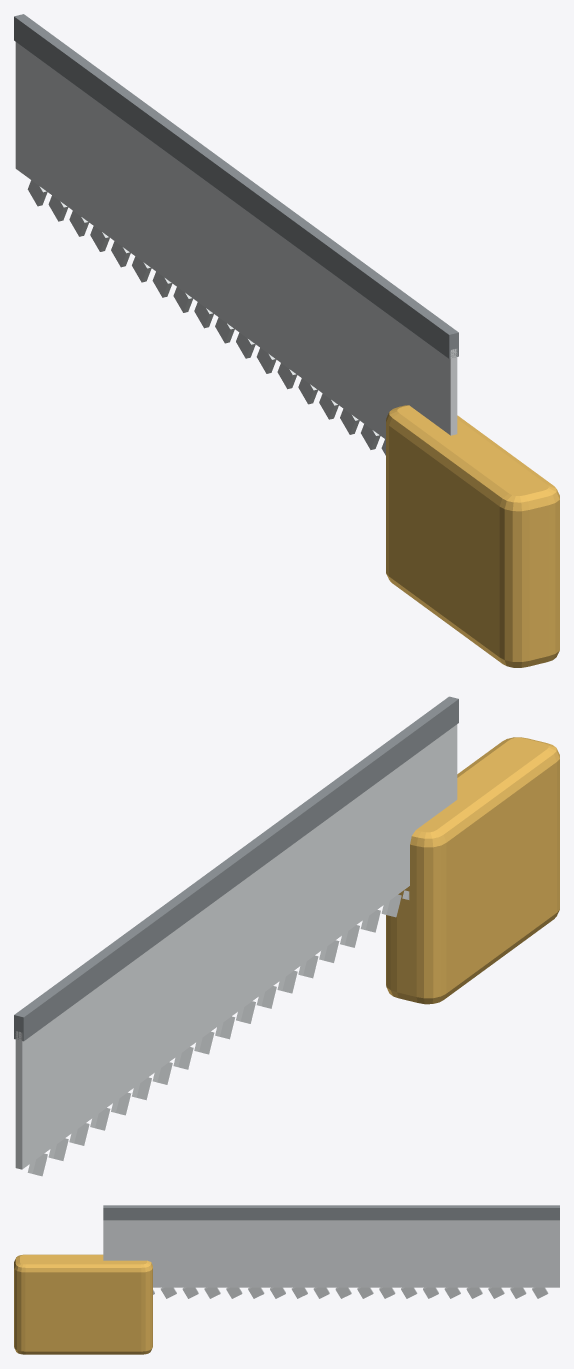
Rendered from item_testere.glb.
The picture shows the model from 3 angles, top to bottom: view 1: azimuth 30°, elevation 25°; view 2: azimuth 150°, elevation 25°; view 3: azimuth 270°, elevation 25°; orthographic projection. The views are drawn at different scales.
Parts seen in each view (by area): view 1: testere; view 2: testere; view 3: testere.
Boxes of the visible parts, <box> form: testere: <box>14,14,559,667</box>; testere: <box>14,696,559,1176</box>; testere: <box>14,1205,559,1354</box>.
Size of the model in its own units: 0.035 by 0.159 by 0.55.
